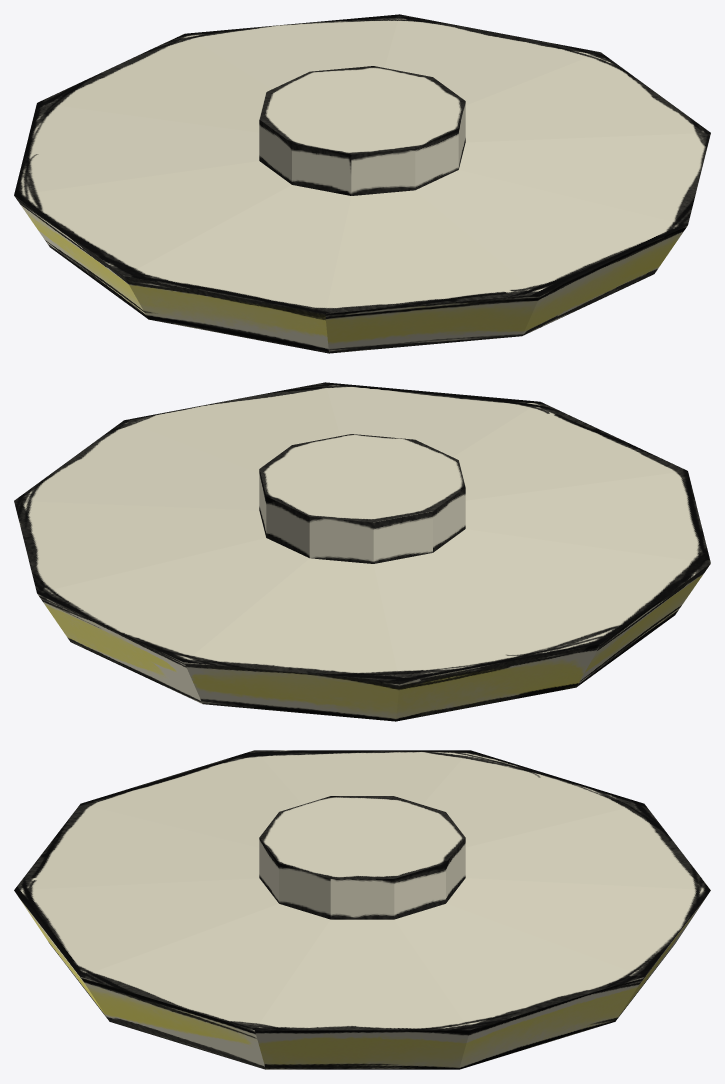
Rendered from chandelier_final.fbx.
3 views of the same model, one above another, from view 1: azimuth 30°, elevation 25°; view 2: azimuth 150°, elevation 25°; view 3: azimuth 270°, elevation 25° (orthographic). The views are drawn at different scales.
Visible parts, largest first — view 1: lamp big сщзн; view 2: lamp big сщзн; view 3: lamp big сщзн.
Boxes of the visible parts, x1=… form: lamp big сщзн: x1=14, y1=14, x2=710, y2=353; lamp big сщзн: x1=14, y1=382, x2=710, y2=721; lamp big сщзн: x1=14, y1=750, x2=710, y2=1069.
Bounding box in the file's own units: 0.7478 × 0.1328 × 0.7863.
1 material, 1 textured.
